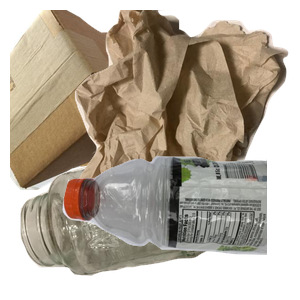cardboard: (10, 10, 206, 190)
glass: (18, 143, 227, 300)
plastic: (60, 152, 300, 300)
trash: (70, 10, 300, 190)
